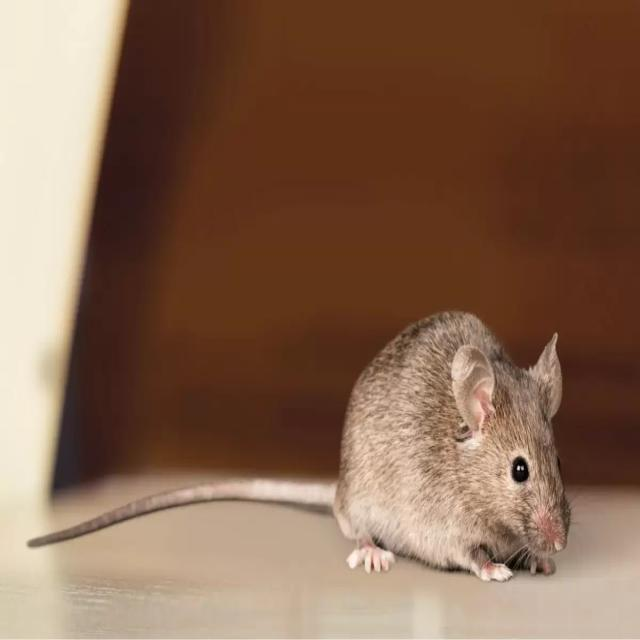rat: (24, 298, 596, 594)
